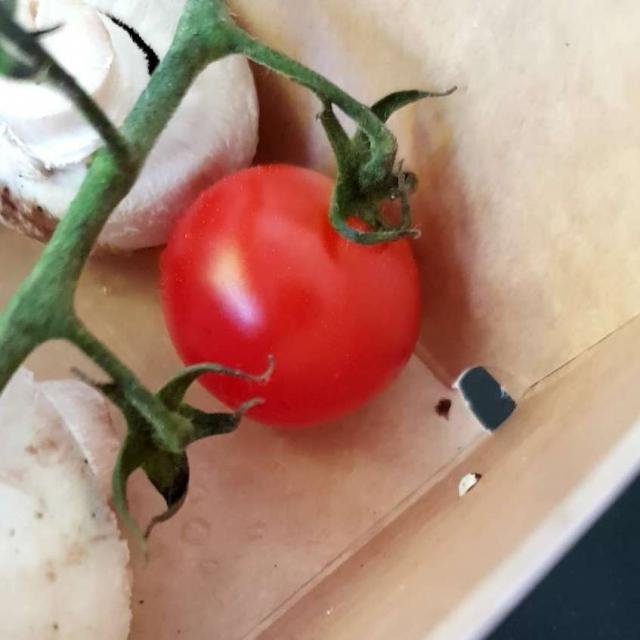tomato-raw: (162, 165, 426, 425)
